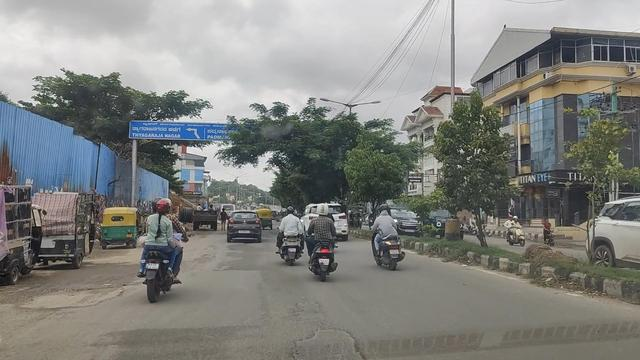LMV: (142, 198, 181, 299), (373, 203, 401, 271), (316, 203, 334, 280), (281, 207, 304, 264), (229, 208, 261, 242)
RoadDamages: (282, 324, 372, 360), (110, 329, 202, 360), (24, 283, 120, 310), (231, 319, 275, 360), (292, 291, 322, 322)
